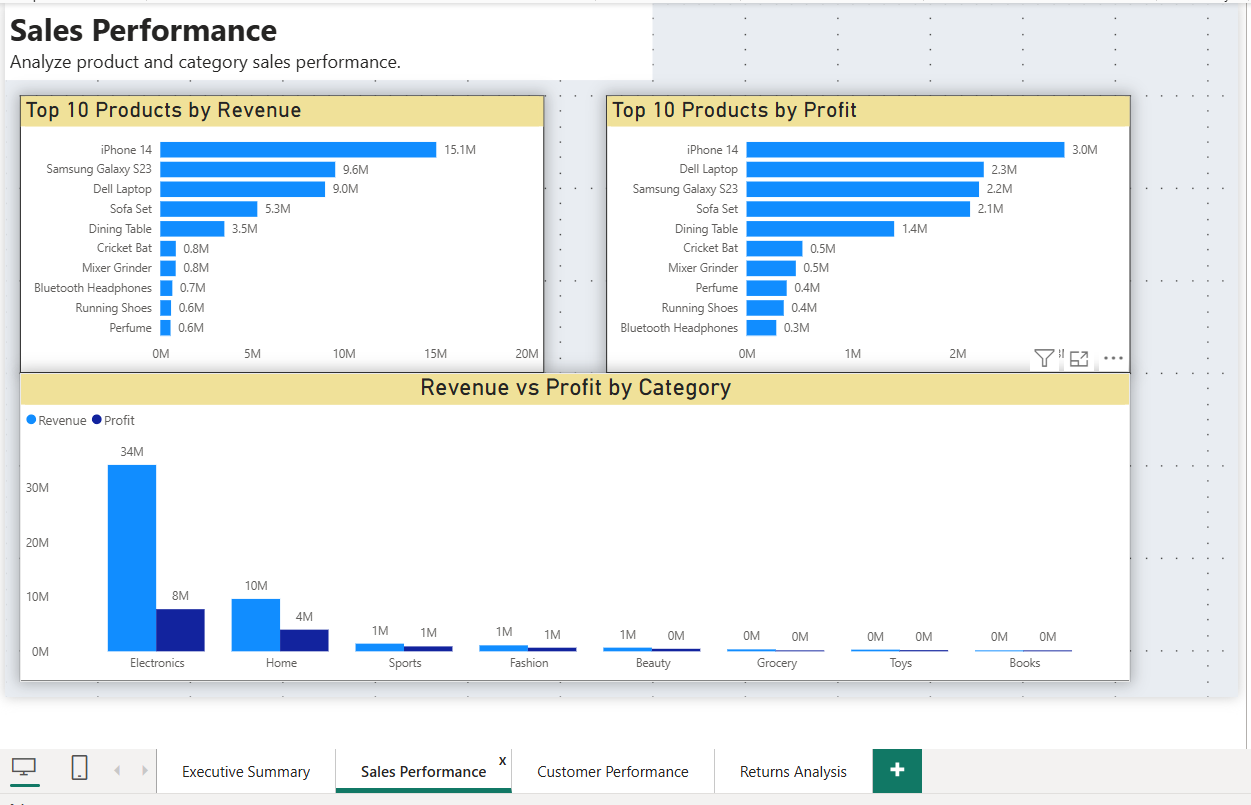

Layout of this report page (visuals, bound fields, positions):
{"tool":"powerbi","page":{"name":"Sales Performance","canvas":[1280,720],"ordinal":1},"visuals":[{"type":"textbox","box":[0,0,672,80],"z":0},{"type":"barChart","title":"Top 10 Products by Revenue ","fields":{"Category":["vw_product_performance.product_name"],"Y":["Sum(vw_product_performance.total_Revenue)"]},"box":[16,96,544,288],"z":1000},{"type":"barChart","title":"Top 10 Products by Profit","fields":{"Category":["vw_product_performance.product_name"],"Y":["Sum(vw_product_performance.total_Profit)"]},"box":[624,96,544,288],"z":2000},{"type":"clusteredColumnChart","title":"Revenue vs Profit by Category","fields":{"Category":["vw_category_performance.category_name"],"Y":["Sum(vw_category_performance.total_revenue)","Sum(vw_category_performance.total_profit)"]},"box":[16,384,1152,320],"z":3000}]}

Visuals, with their boxes in screenshot pixels (x1, y1, x2, y2):
textbox: [x1=0, y1=0, x2=648, y2=77]
"Top 10 Products by Revenue " barChart: [x1=15, y1=93, x2=540, y2=370]
"Top 10 Products by Profit" barChart: [x1=601, y1=93, x2=1126, y2=370]
"Revenue vs Profit by Category" clusteredColumnChart: [x1=15, y1=370, x2=1126, y2=679]
